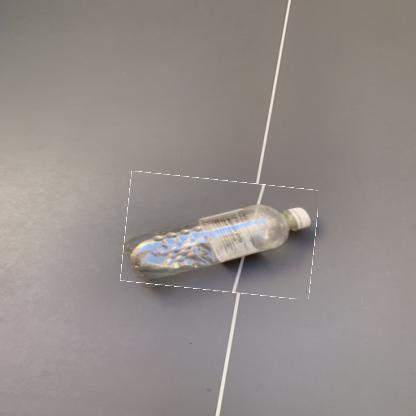plastic-bottles: (123, 177, 318, 297)
